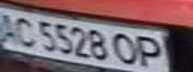2: (66, 24, 90, 60)
5: (30, 19, 60, 53), (51, 21, 72, 56)
8: (87, 27, 112, 62)
A: (0, 9, 21, 44)
C: (6, 14, 39, 48)
O: (109, 30, 142, 66)
P: (130, 33, 172, 70)
